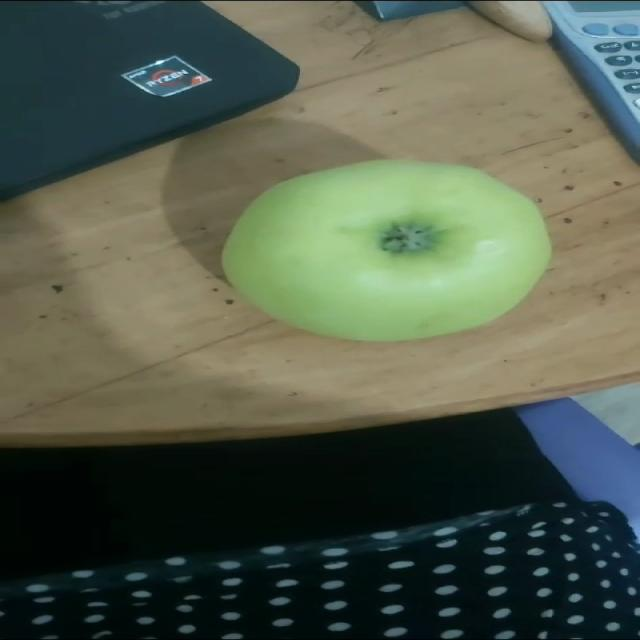50-_ripeness: (220, 158, 551, 338)
